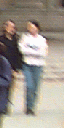person: (20, 21, 48, 111)
